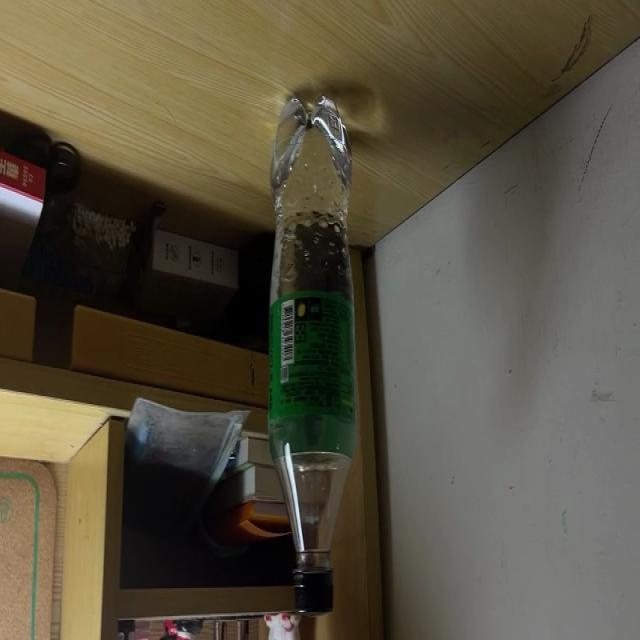Sprite: (269, 91, 354, 616)
